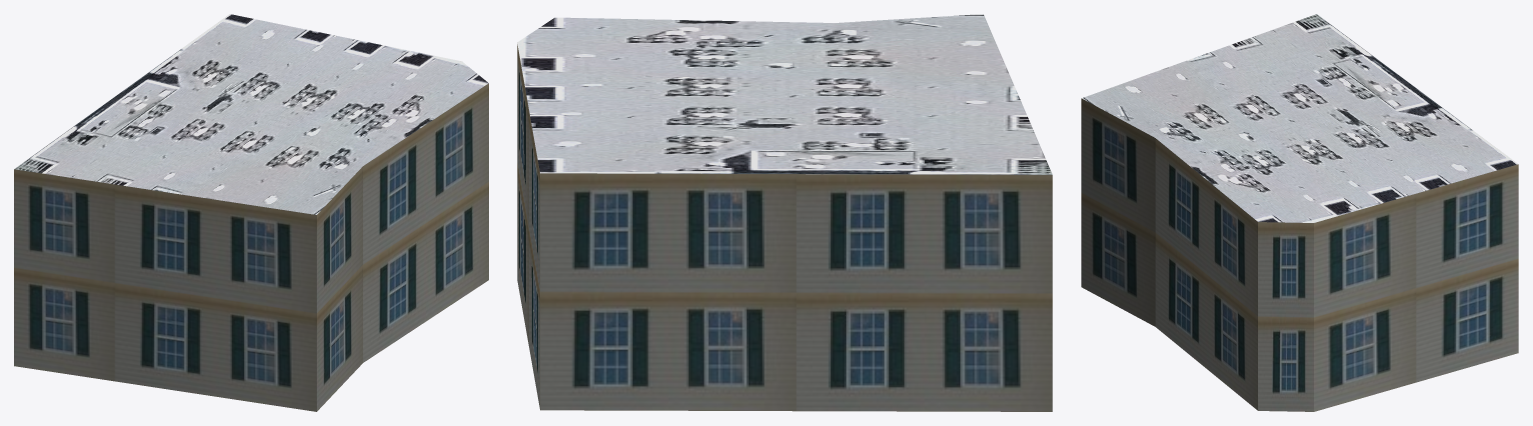
The model's file is ResTex__1539.fbx.
3 renders of one model, left to right at view 1: azimuth 30°, elevation 25°; view 2: azimuth 150°, elevation 25°; view 3: azimuth 270°, elevation 25°, orthographic. The views are drawn at different scales.
Parts seen in each view (by area): view 1: CityEngineMaterial_7_m, CityEngineMaterial_m; view 2: CityEngineMaterial_7_m, CityEngineMaterial_m; view 3: CityEngineMaterial_7_m, CityEngineMaterial_m.
Part boxes in pixels (box(x1,y1,x2,y2)): CityEngineMaterial_7_m: box(14, 83, 488, 411); CityEngineMaterial_m: box(14, 14, 488, 214); CityEngineMaterial_7_m: box(517, 44, 1052, 411); CityEngineMaterial_m: box(517, 14, 1052, 174); CityEngineMaterial_7_m: box(1081, 98, 1518, 411); CityEngineMaterial_m: box(1082, 14, 1517, 222).
Size of the model in its own units: 14.24 by 6 by 12.58.
Materials: 2 (2 with a texture image).
